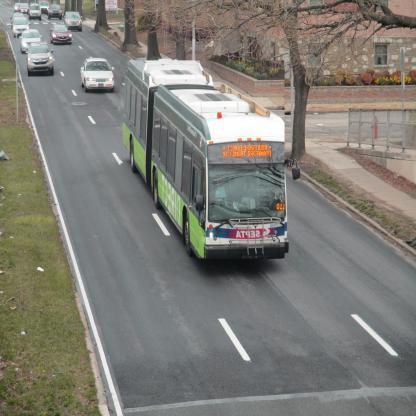bus: (122, 62, 286, 260)
car: (83, 58, 118, 94), (29, 42, 54, 78), (51, 25, 73, 45), (23, 29, 41, 49), (66, 13, 83, 32), (14, 18, 31, 36), (31, 4, 42, 22), (50, 6, 64, 19), (22, 4, 30, 13)
